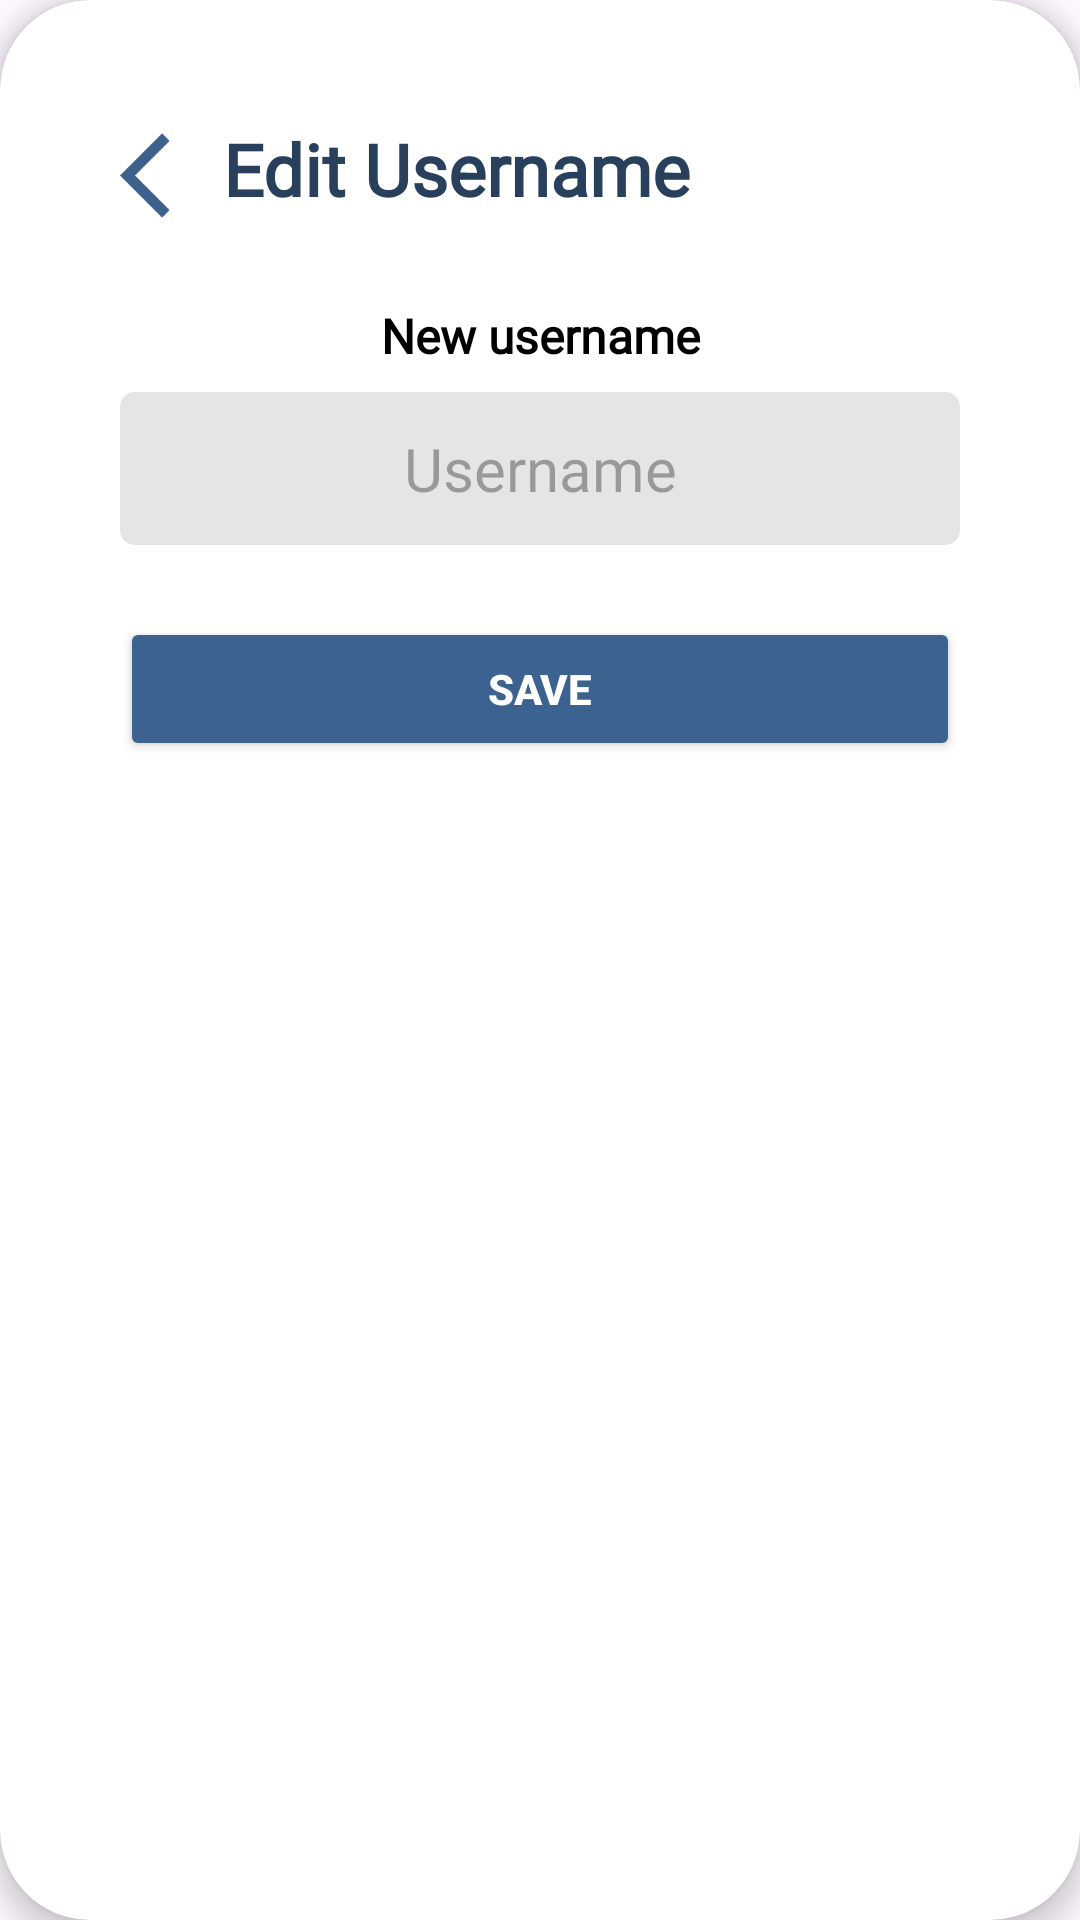

Named icons in this screenshot (1080px x 1920px) and their centers, (x=x, y=y):
arrow back: (x=145, y=175)
